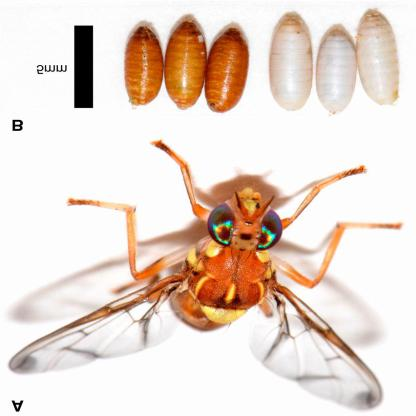fruit fly: (7, 143, 384, 409)
